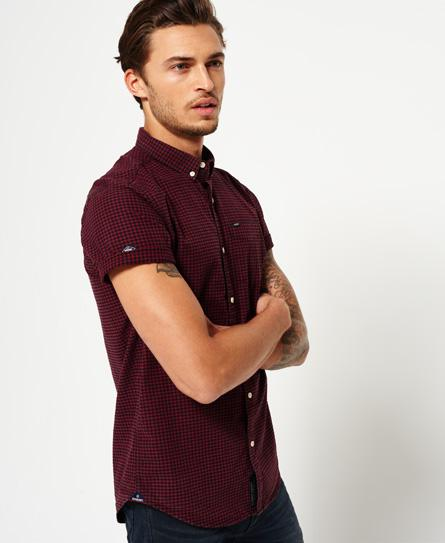teeshirt: (78, 128, 284, 527)
